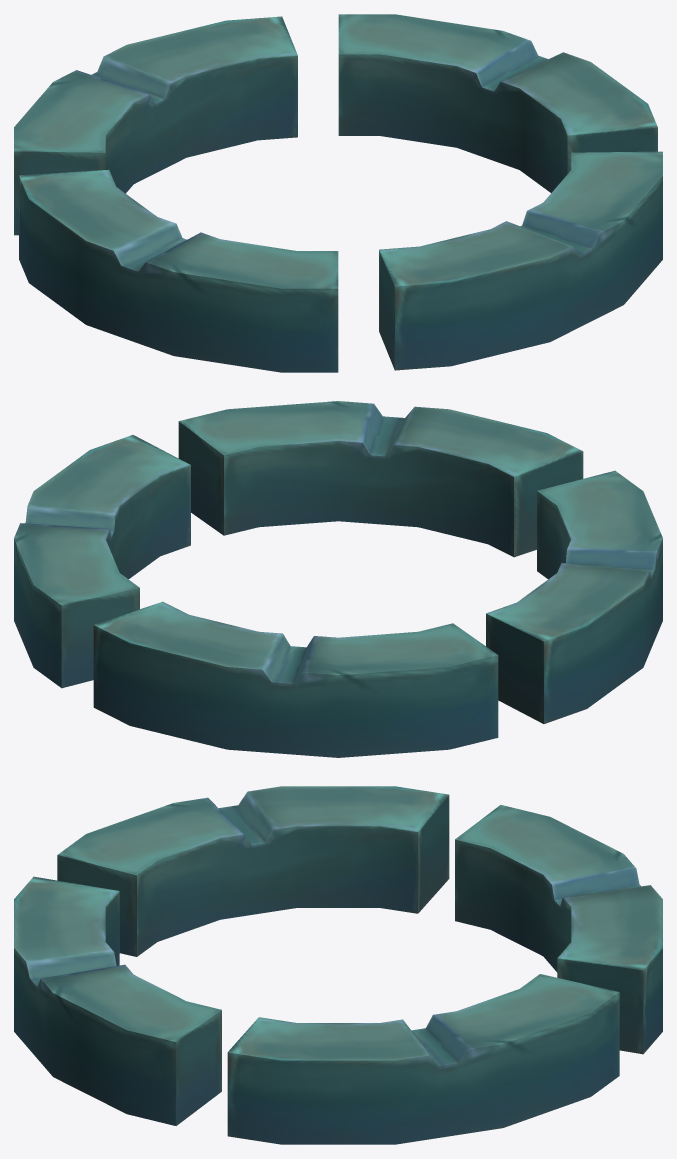
Rendered from ZC_yuantai03.FBX.
3 renders of one model, top to bottom at view 1: azimuth 30°, elevation 25°; view 2: azimuth 150°, elevation 25°; view 3: azimuth 270°, elevation 25°, orthographic.
Parts seen in each view (by area): view 1: ZC_yuantai03_002, ZC_yuantai03_003, ZC_yuantai03_004, ZC_yuantai03_001; view 2: ZC_yuantai03_001, ZC_yuantai03_003, ZC_yuantai03_002, ZC_yuantai03_004; view 3: ZC_yuantai03_004, ZC_yuantai03_002, ZC_yuantai03_003, ZC_yuantai03_001.
Boxes of the visible parts, left/top/right/bottom form: ZC_yuantai03_002: left=19, top=169, right=338, bottom=372; ZC_yuantai03_003: left=379, top=151, right=662, bottom=370; ZC_yuantai03_004: left=338, top=14, right=657, bottom=192; ZC_yuantai03_001: left=14, top=16, right=297, bottom=235; ZC_yuantai03_001: left=93, top=601, right=498, bottom=757; ZC_yuantai03_003: left=178, top=401, right=583, bottom=557; ZC_yuantai03_002: left=486, top=470, right=662, bottom=723; ZC_yuantai03_004: left=14, top=435, right=190, bottom=688; ZC_yuantai03_004: left=227, top=974, right=619, bottom=1144; ZC_yuantai03_002: left=57, top=786, right=449, bottom=956; ZC_yuantai03_003: left=14, top=876, right=221, bottom=1125; ZC_yuantai03_001: left=455, top=805, right=662, bottom=1054.
Bounding box in the file's own units: 421 × 60.15 × 421.
Materials: 1 (1 with a texture image).
